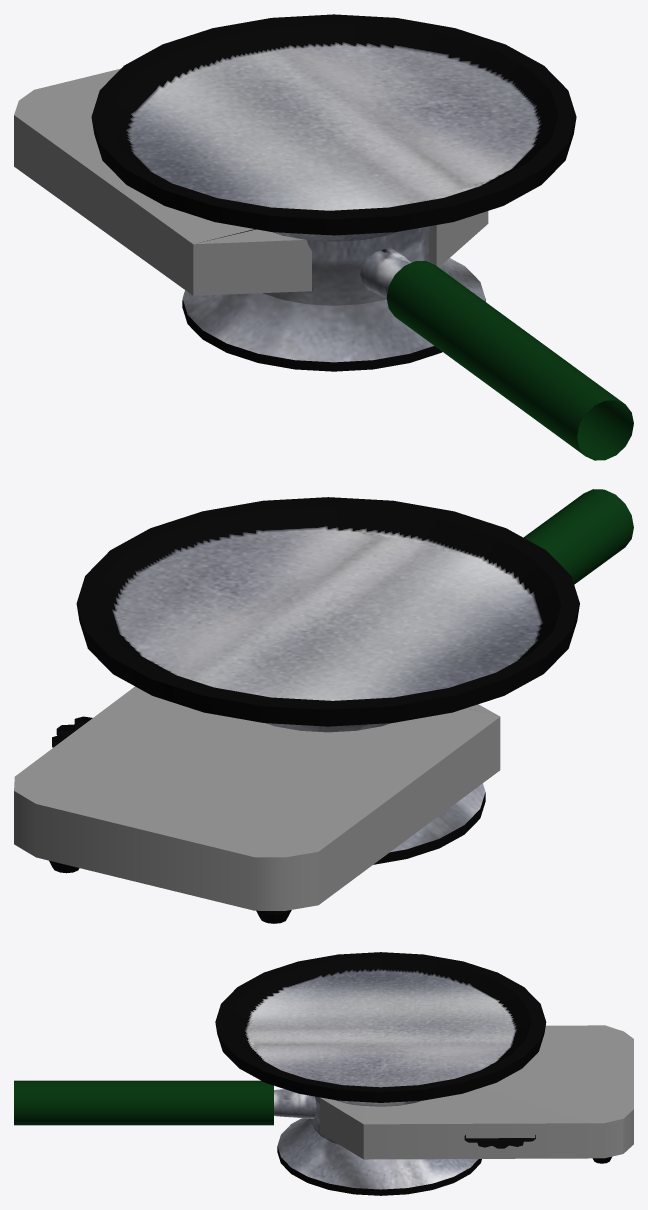
Rendered from Steth_diaphramonly_v1.fbx.
The picture shows the model from 3 angles, top to bottom: view 1: azimuth 30°, elevation 25°; view 2: azimuth 150°, elevation 25°; view 3: azimuth 270°, elevation 25°; orthographic projection. The views are drawn at different scales.
Visible parts, largest first — view 1: Stethoscope.001; view 2: Stethoscope.001; view 3: Stethoscope.001, volume control.
Boxes of the visible parts, bbox=[...] form: Stethoscope.001: bbox=[14, 14, 633, 460]; Stethoscope.001: bbox=[14, 489, 633, 923]; Stethoscope.001: bbox=[14, 952, 633, 1195]; volume control: bbox=[464, 1135, 535, 1148].
Size of the model in its own units: 6.37 by 2.76 by 11.93.
